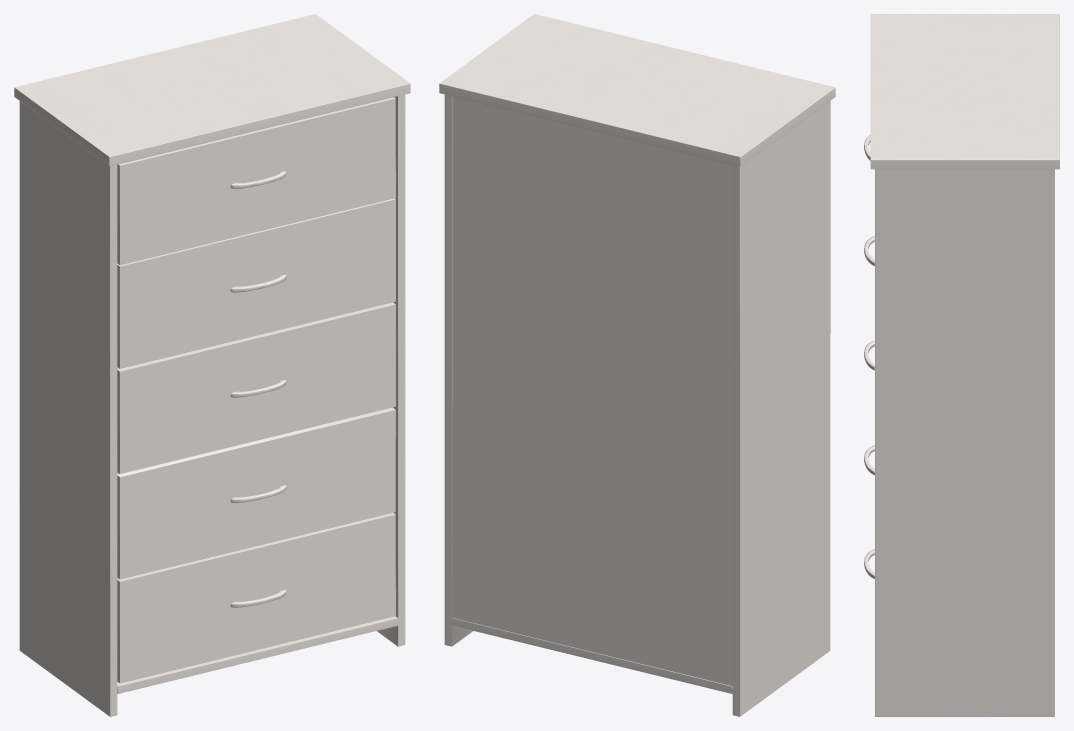
The model's file is B07PXFVNXR.glb.
3 views of the same model, side by side, from view 1: azimuth 30°, elevation 25°; view 2: azimuth 150°, elevation 25°; view 3: azimuth 270°, elevation 25° (orthographic).
Parts seen in each view (by area): view 1: RootNode; view 2: RootNode; view 3: RootNode.
Boxes of the visible parts, x1,y1,x2,y2 form: RootNode: (14, 14, 410, 716); RootNode: (439, 14, 835, 716); RootNode: (864, 14, 1059, 716).
Bounding box in the file's own units: 0.7036 × 1.25 × 0.3988.
Materials: 1 (1 with a texture image).
